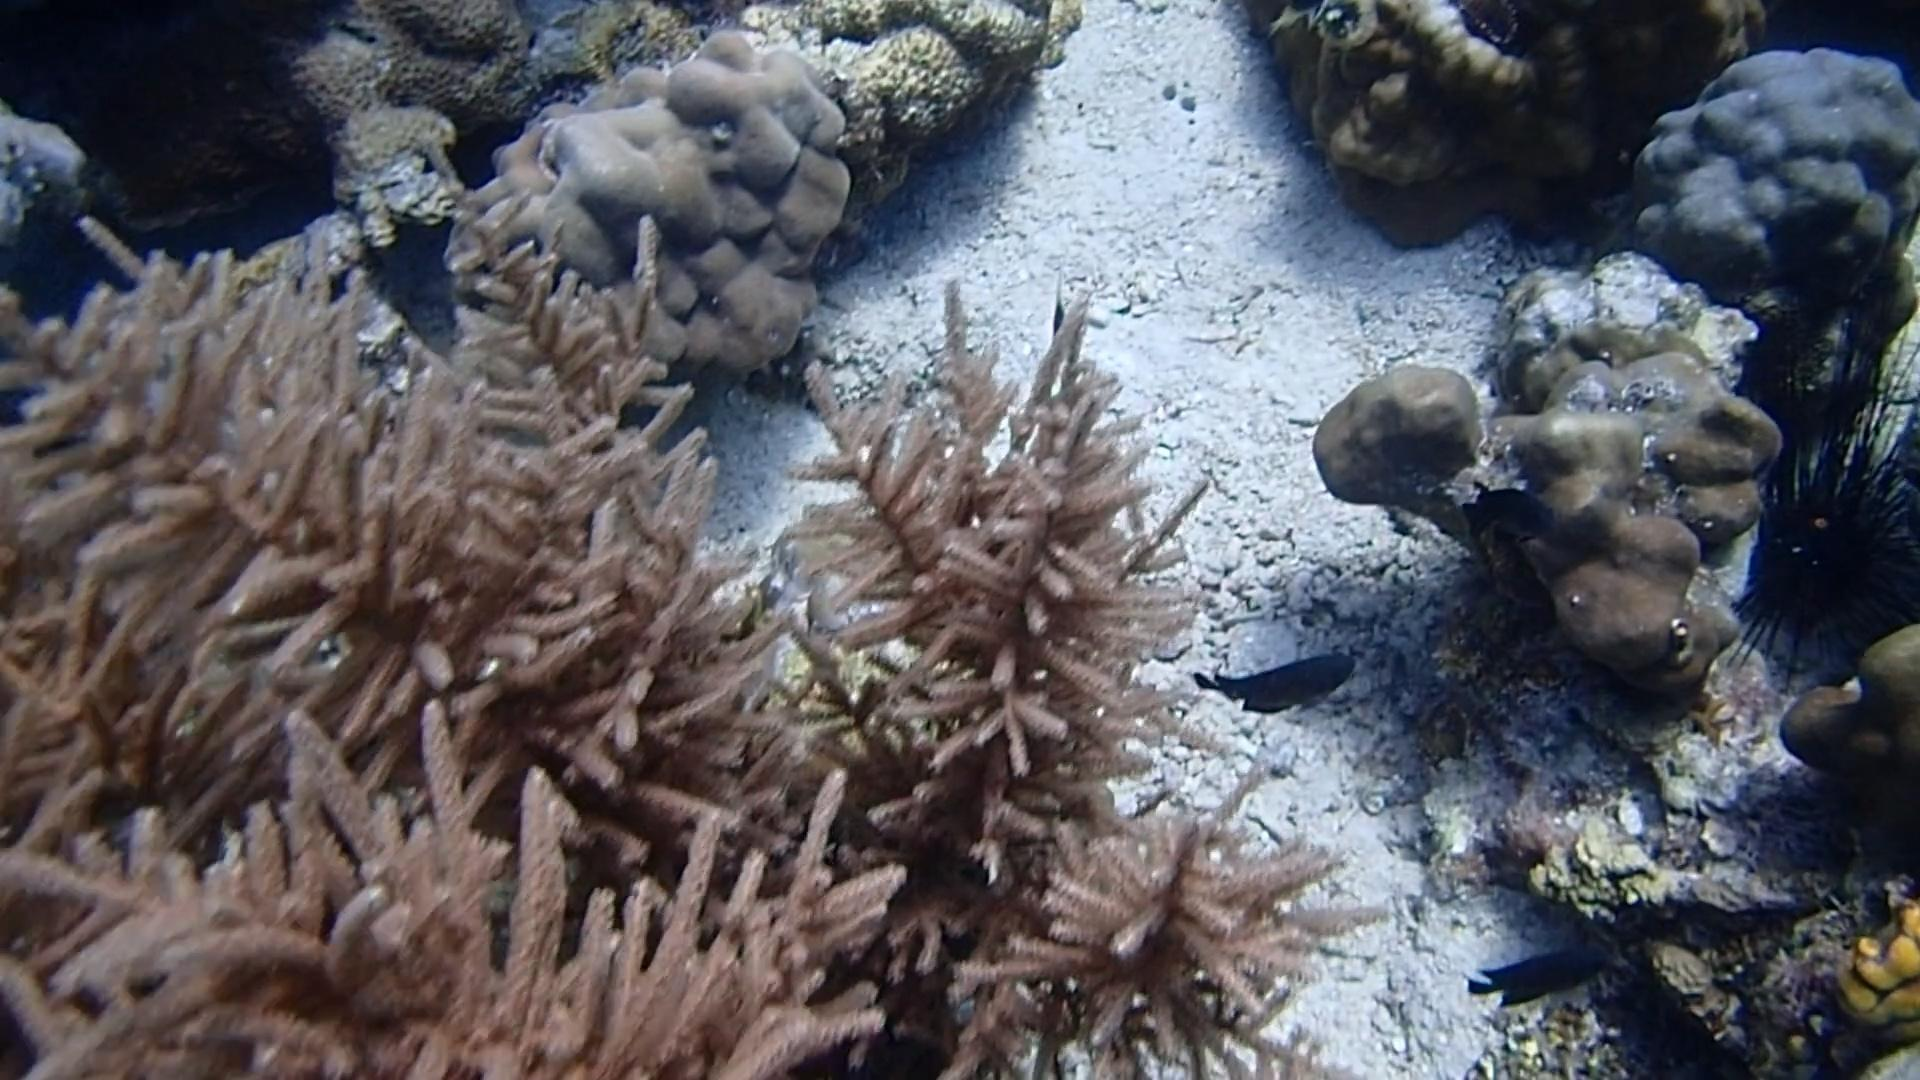Dark Fish: (1188, 645, 1377, 723), (1457, 944, 1610, 1015), (1453, 483, 1571, 547)
Yellow Tail: (1038, 273, 1079, 352)
